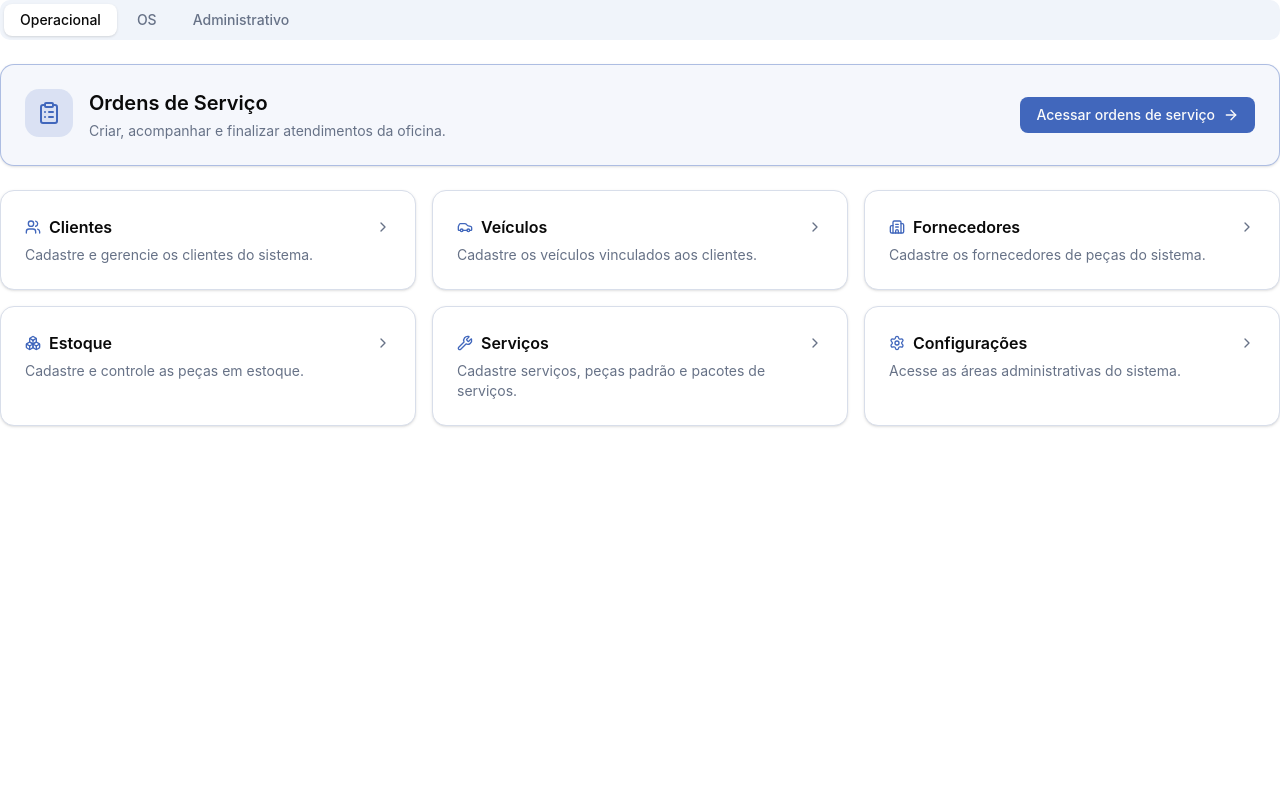
DashboardTabs › switches to the Administrativo indicators when its tab is clicked
The width and height of the screenshot is (1280, 800).
What coordinates should you click on to do the following:
click the tab "Administrativo"
I would click on:
 (241, 20)
Its box is [177, 4, 305, 36].
(page scrolled)
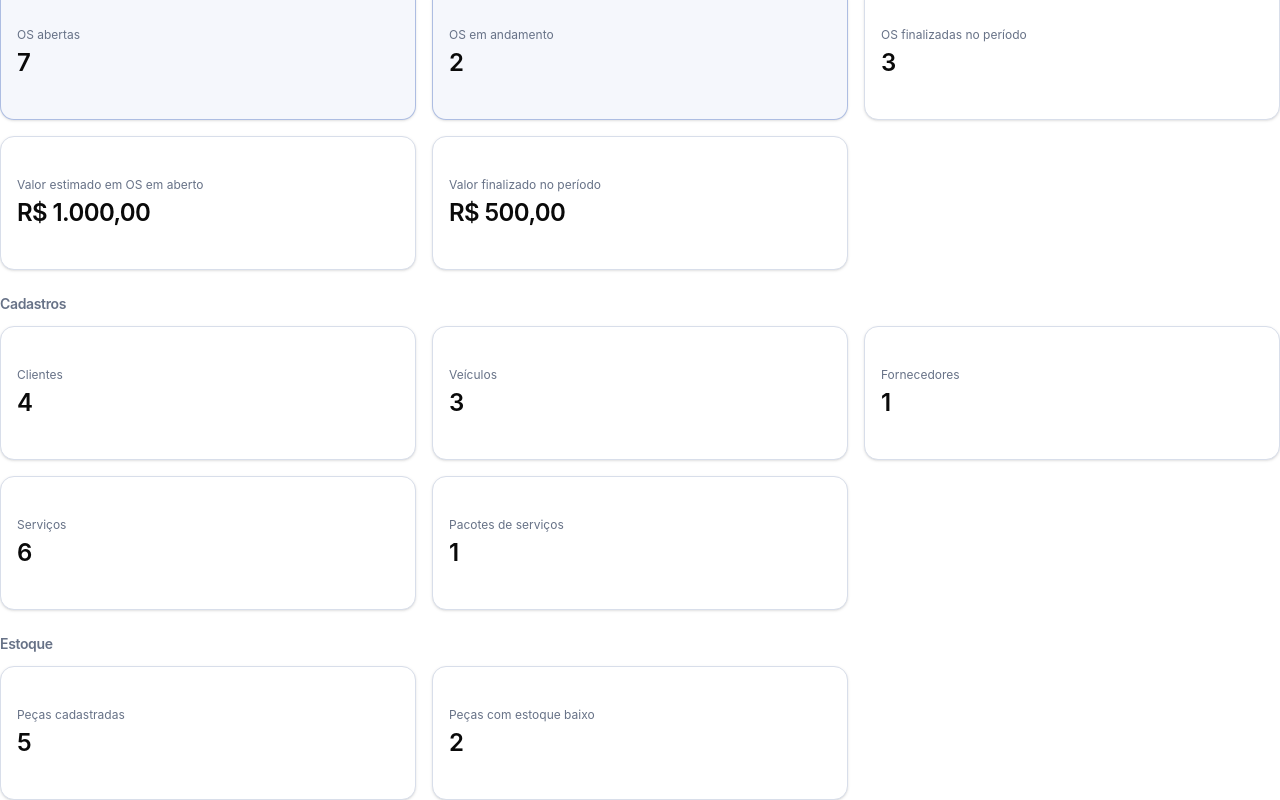
expect the text "OS abertas" is shown: met, box [17, 27, 80, 42]
expect the text "Peças com estoque baixo" is shown: met, box [449, 707, 595, 722]
